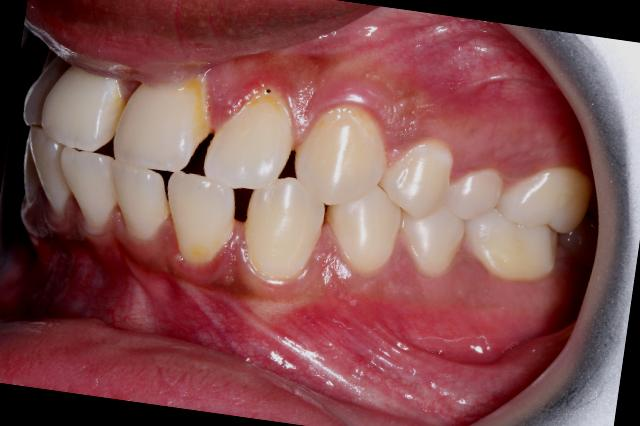canine class I: (236, 80, 418, 306)
molar class III 1/4: (456, 152, 598, 296)
